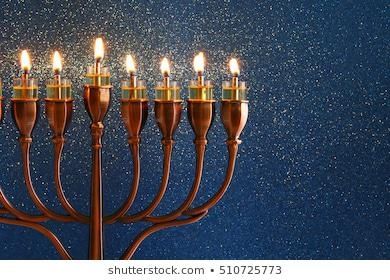fire: (191, 49, 206, 77), (92, 35, 105, 64), (50, 48, 64, 71), (19, 47, 31, 73), (158, 54, 172, 76), (227, 55, 240, 75), (123, 52, 136, 71)
